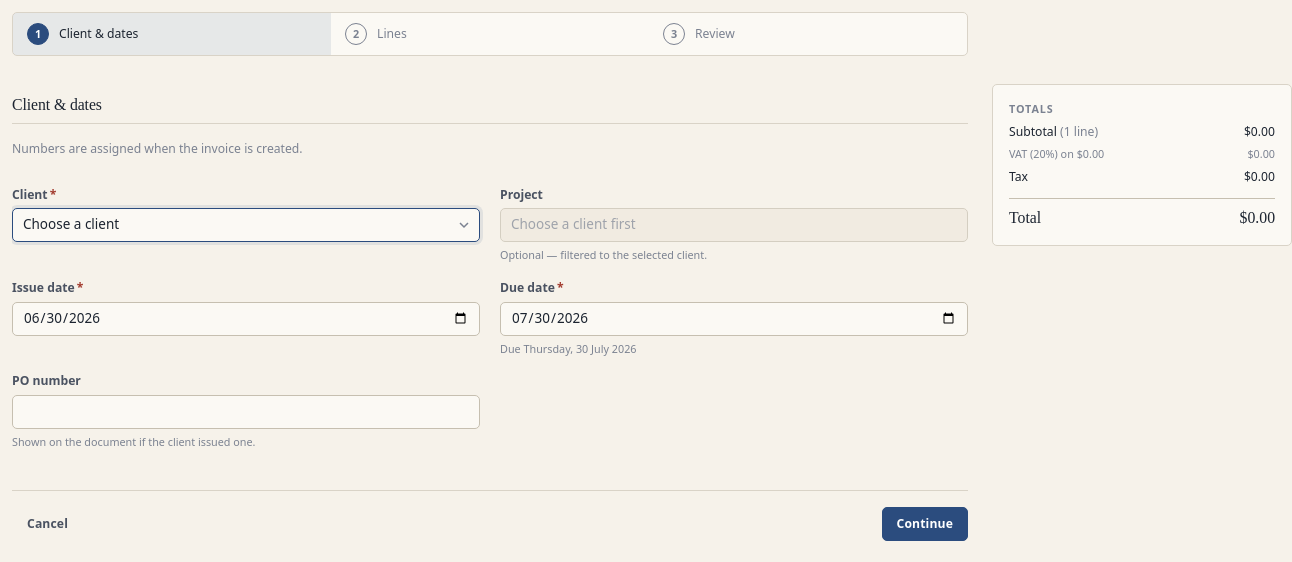
Test: InvoiceEditor totals panel › blocks step 1 without a client and shows validation errors on submit
Click the button "Continue": (925, 524) [882,506,968,540]
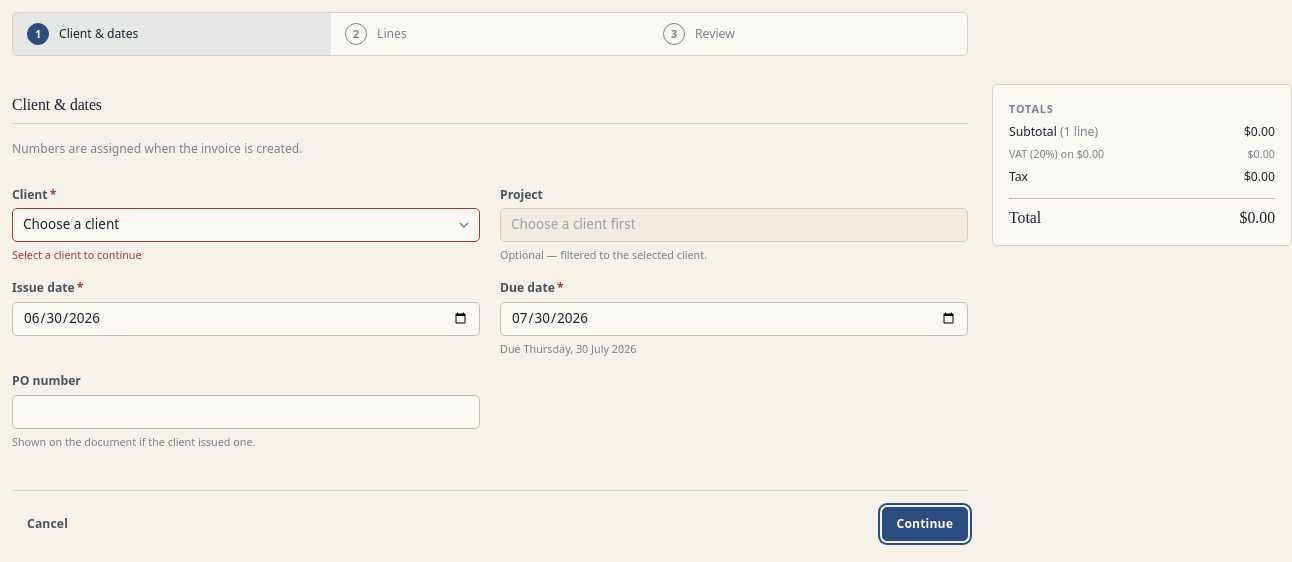
Expected: the text "Select a client to continue" is shown, [12,247,142,262]
